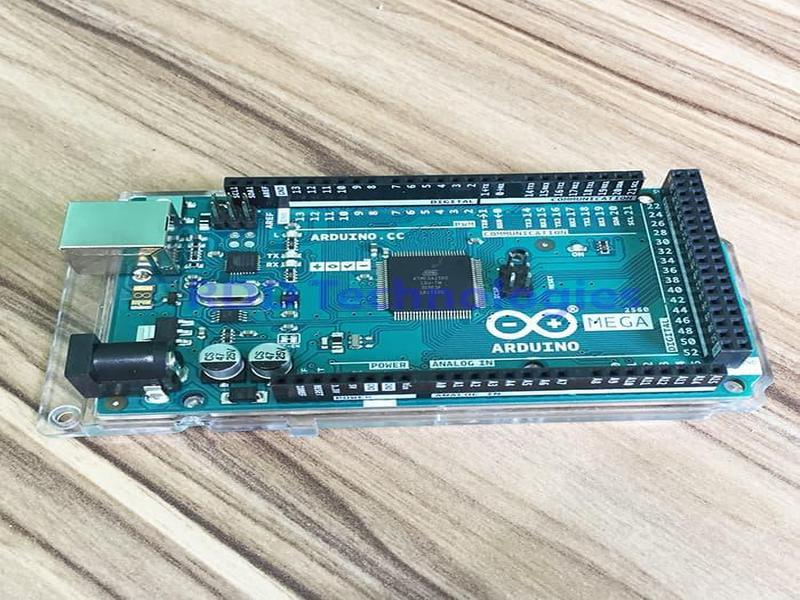Arduino Mega: (58, 165, 764, 407)
